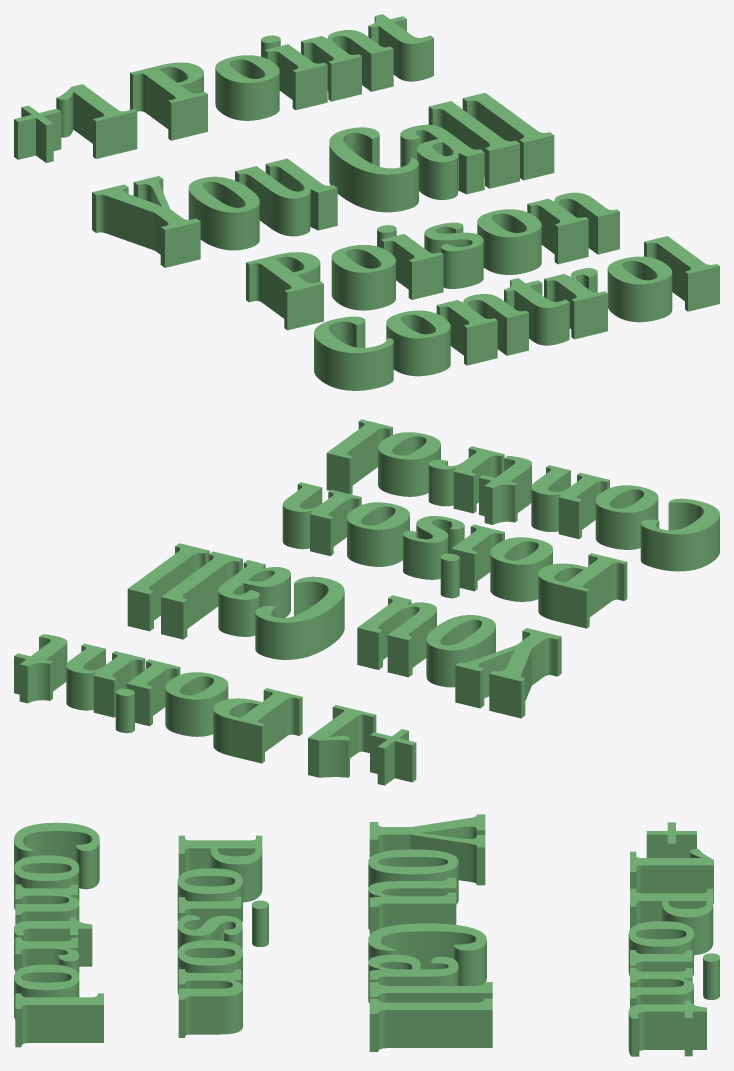
The model's file is pospoison.gltf.
The picture shows the model from 3 angles, top to bottom: view 1: azimuth 30°, elevation 25°; view 2: azimuth 150°, elevation 25°; view 3: azimuth 270°, elevation 25°; orthographic projection. The views are drawn at different scales.
Parts seen in each view (by area): view 1: Mesh_Mesh_head_geo001_lambert2SG001; view 2: Mesh_Mesh_head_geo001_lambert2SG001; view 3: Mesh_Mesh_head_geo001_lambert2SG001.
Part boxes in pixels (x1,y1,x2,y2): Mesh_Mesh_head_geo001_lambert2SG001: (14,14,719,390); Mesh_Mesh_head_geo001_lambert2SG001: (14,419,719,785); Mesh_Mesh_head_geo001_lambert2SG001: (14,814,719,1056).
Size of the model in its own units: 115 by 10 by 168.
